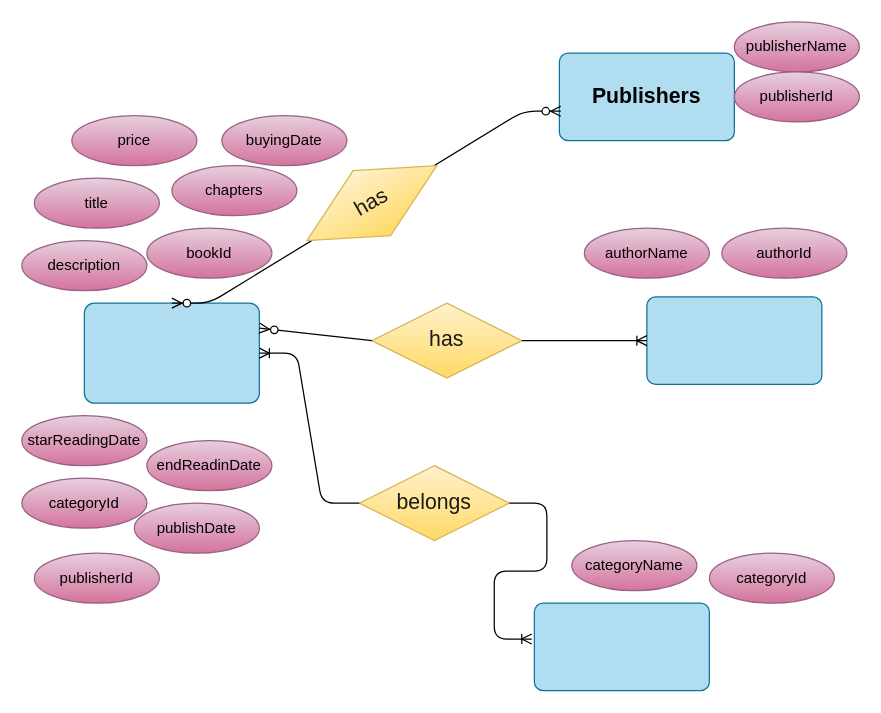
Image size: 881x713. Some labels were removed from this diagram. The centre of each missing label's shape, as x and y in pixels:
authors: pixel 734 340
books: pixel 171 352
categories: pixel 621 646
